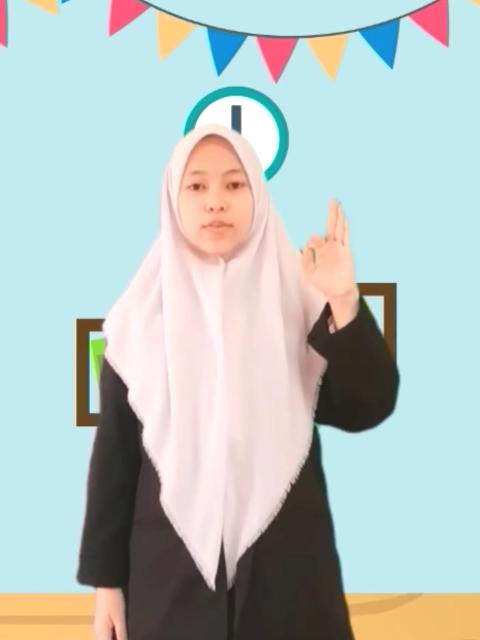F: (298, 195, 358, 301)
